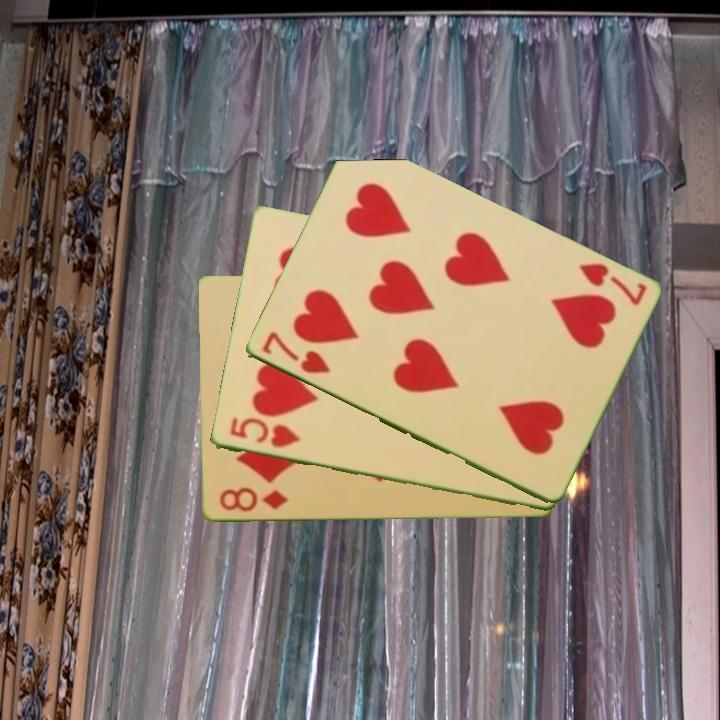5h: (226, 414, 303, 451)
7h: (574, 259, 649, 309), (258, 328, 333, 377)
8d: (216, 484, 291, 515)
